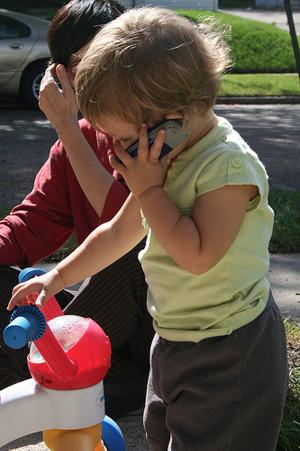person: (8, 8, 289, 451)
